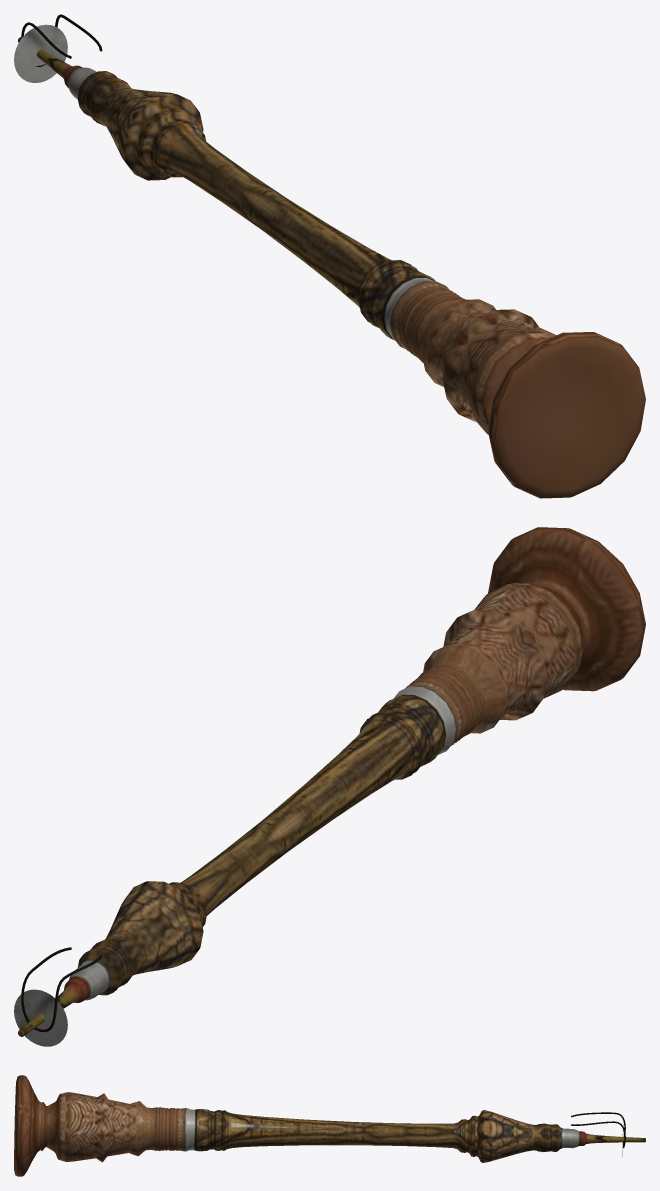
Rendered from serunai.fbx.
3 renders of one model, top to bottom at view 1: azimuth 30°, elevation 25°; view 2: azimuth 150°, elevation 25°; view 3: azimuth 270°, elevation 25°, orthographic. The views are drawn at different scales.
Visible parts, largest first — view 1: Serunai; view 2: Serunai; view 3: Serunai.
Part boxes in pixels (left/top/right/bottom): Serunai: left=14, top=14, right=645, bottom=498; Serunai: left=14, top=527, right=645, bottom=1046; Serunai: left=14, top=1075, right=645, bottom=1176.
Bounding box in the file's own units: 82.02 × 81.99 × 509.
